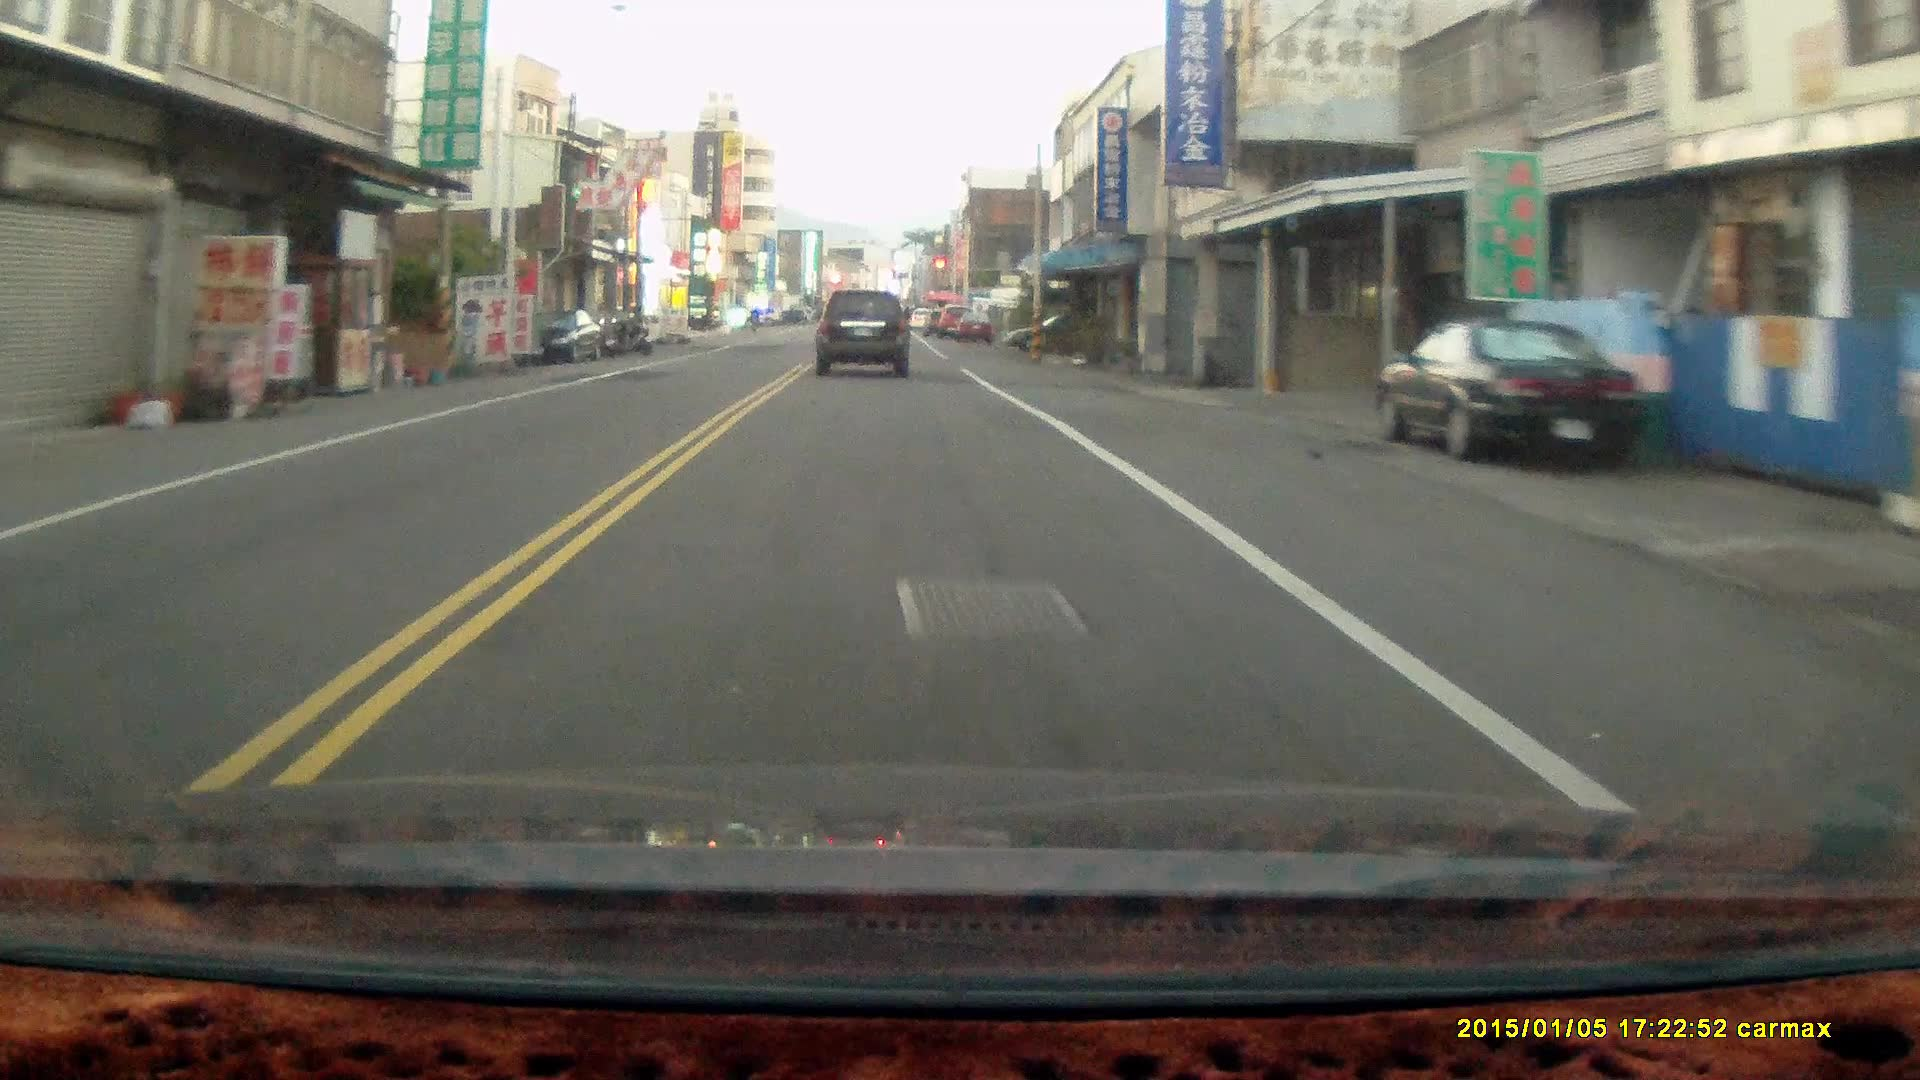vehicle: (1375, 316, 1648, 473), (814, 289, 913, 381)
